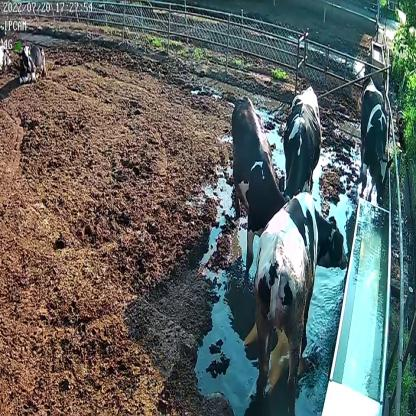cow: (250, 190, 347, 396), (230, 95, 288, 283), (283, 80, 323, 198), (359, 76, 394, 202), (18, 36, 46, 85)
